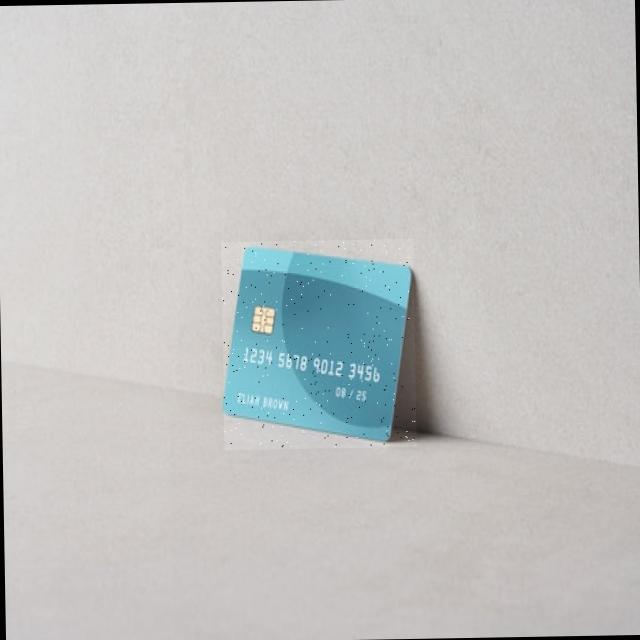payment_card: (220, 241, 414, 442)
